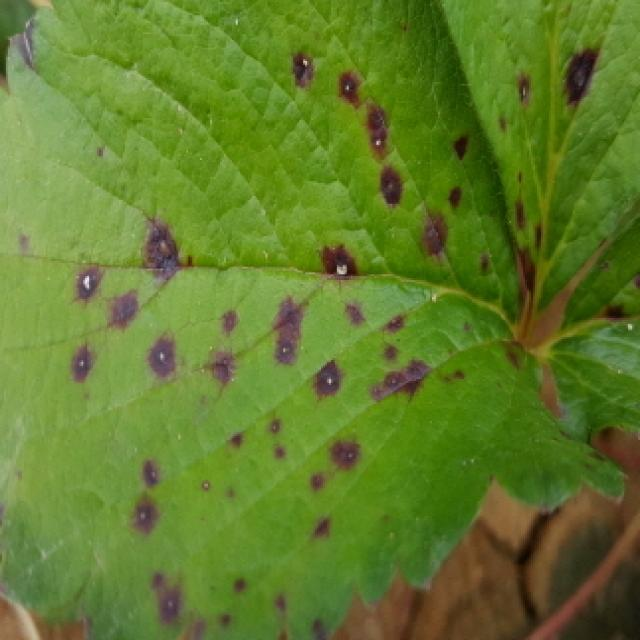Leaf Spot: (0, 0, 635, 640), (436, 0, 640, 315), (530, 202, 640, 447)
